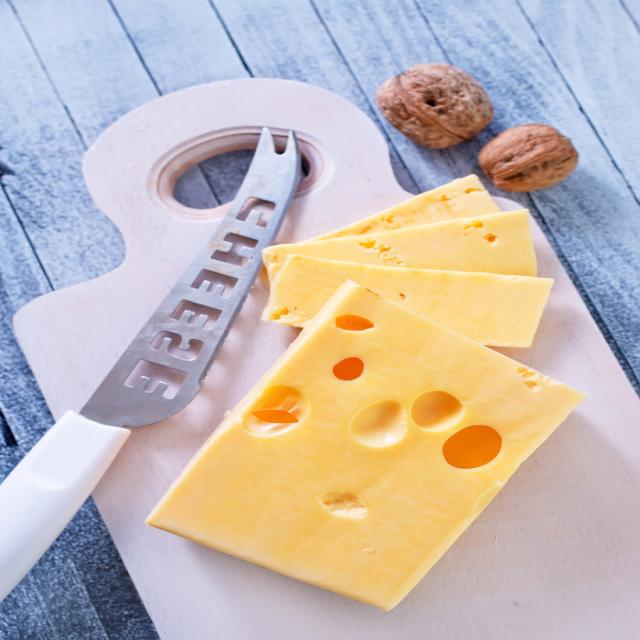cheese: (146, 176, 585, 611)
